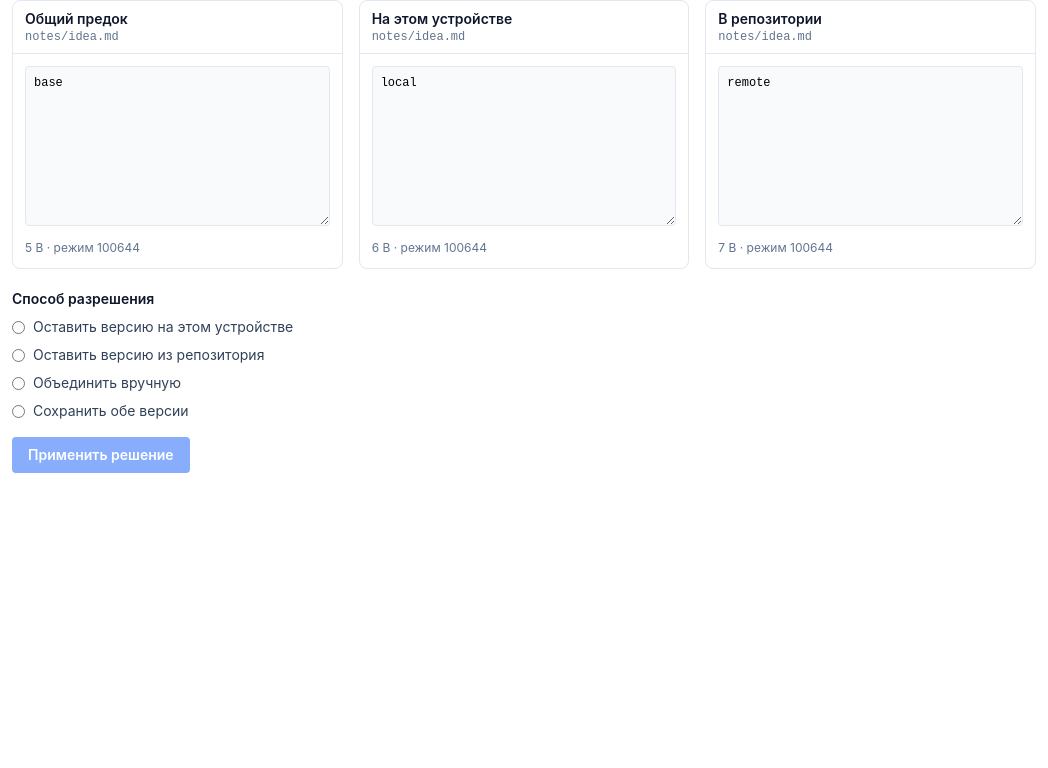
Test: TextConflictResolver › preserves the manual draft and selected action after a rejected resolution
Click the radio button labelled "Объединить вручную".
click(18, 383)  # box [12,376,25,390]
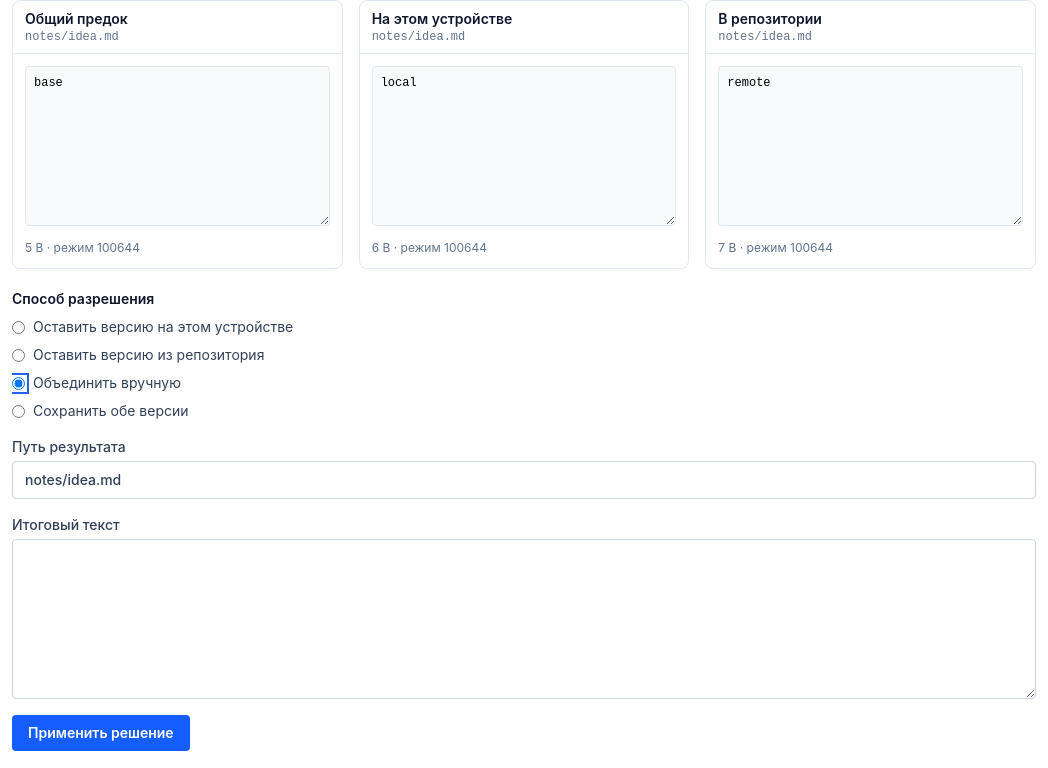
Replace the text in the field labelled "Путь результата" with "notes/merged.md" at (524,480), box [12,461,1036,499]
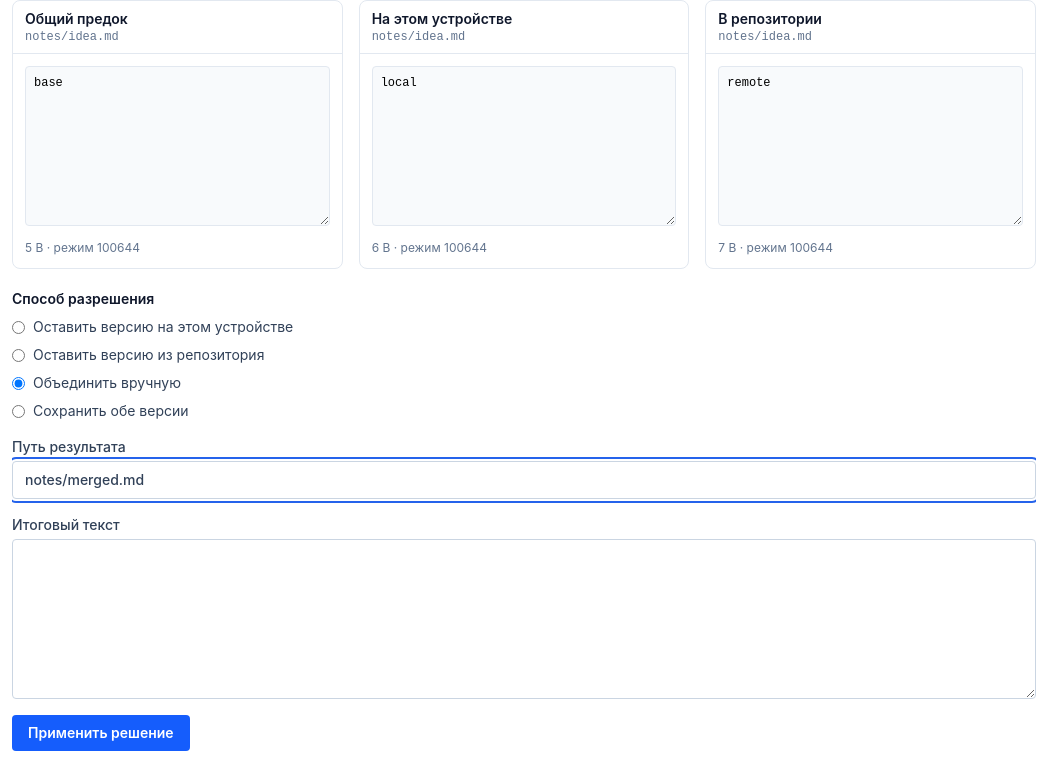
Type "объединенный текст" into the text box labelled "Итоговый текст".
click(524, 619); type("объединенный текст")  # box [12,539,1036,699]
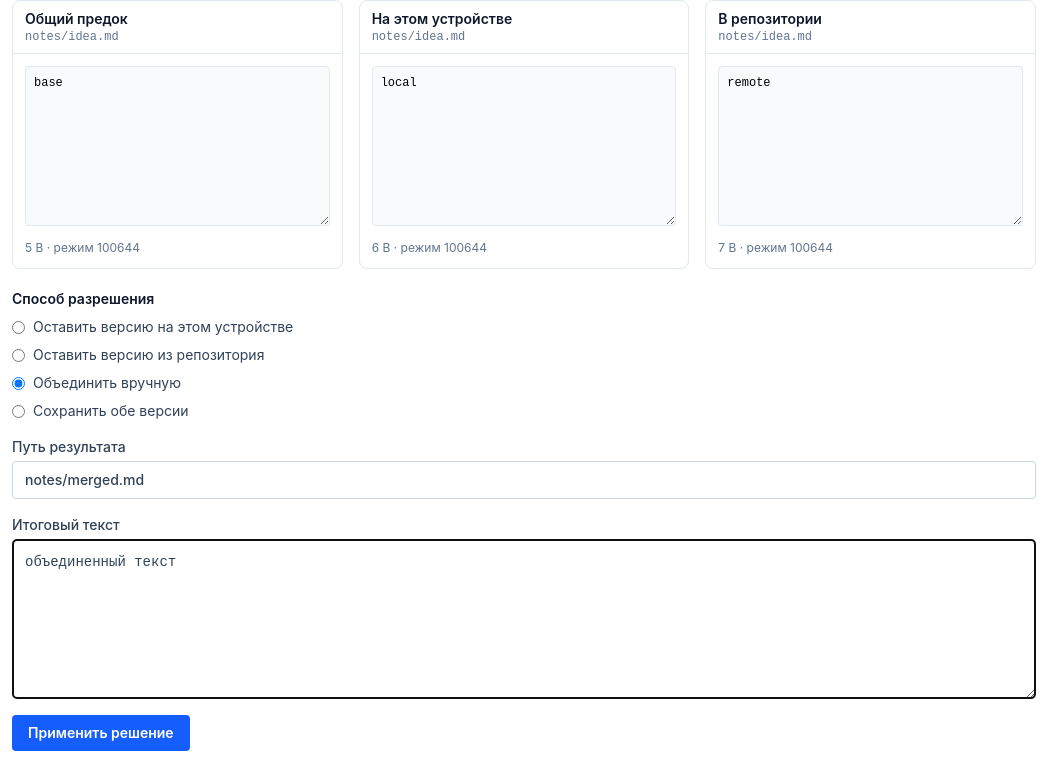
Click the button "Применить решение".
click(101, 733)  # box [12,715,190,751]
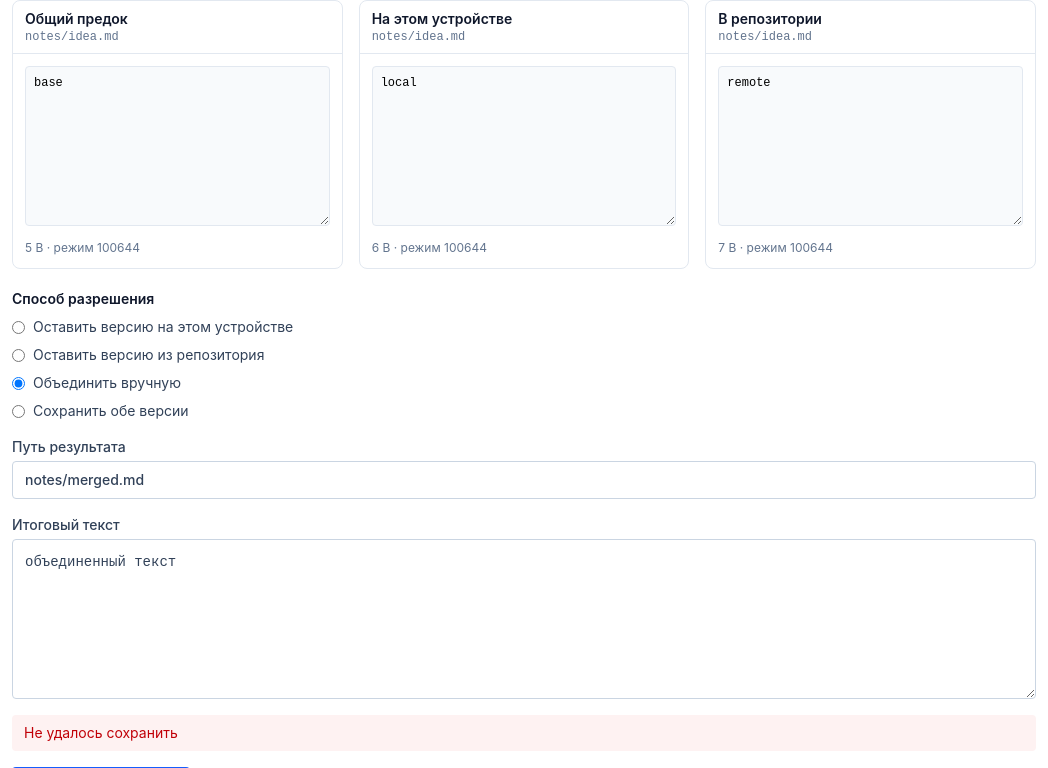
Check: the radio button labelled "Объединить вручную" is checked, box [12,376,25,390]
Check: the message reads "Не удалось сохранить", box [24,724,178,741]
